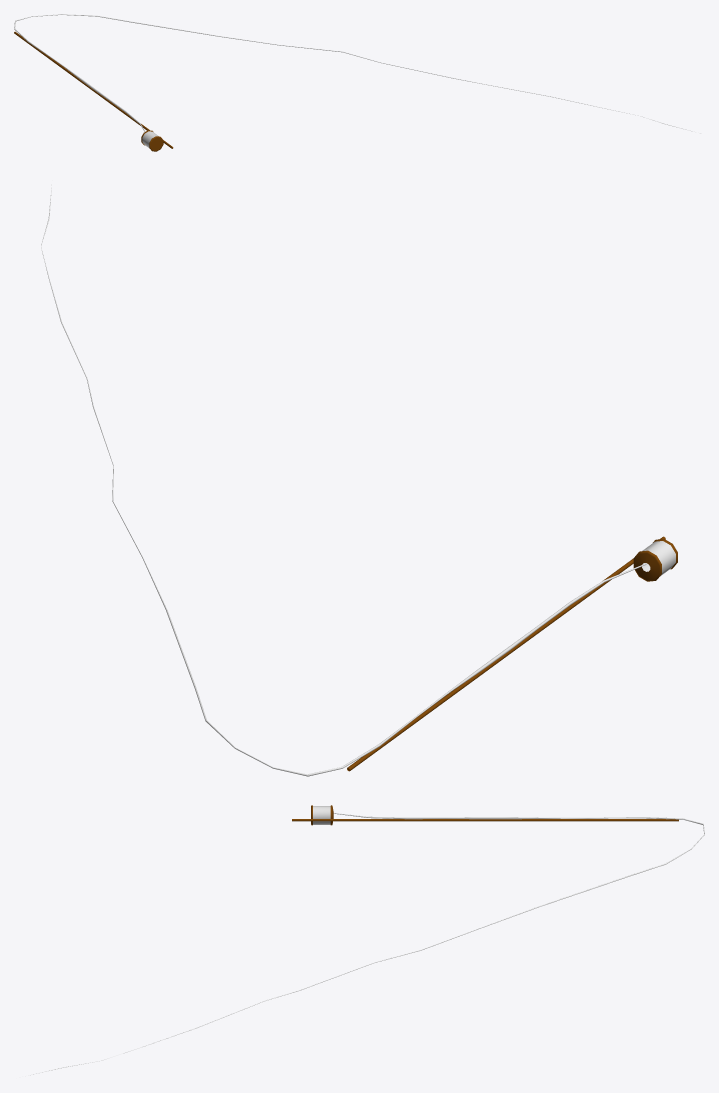
The model's file is cannePeche.fbx.
3 views of the same model, one above another, from view 1: azimuth 30°, elevation 25°; view 2: azimuth 150°, elevation 25°; view 3: azimuth 270°, elevation 25° (orthographic). The views are drawn at different scales.
Visible parts, largest first — view 1: ligne, cannePeche, poignee; view 2: ligne, cannePeche, poignee; view 3: ligne, cannePeche.
Part boxes in pixels (bbox=[...]): ligne: bbox=[14, 14, 691, 131]; cannePeche: bbox=[14, 31, 173, 148]; poignee: bbox=[141, 130, 163, 151]; ligne: bbox=[41, 184, 646, 776]; cannePeche: bbox=[347, 536, 665, 771]; poignee: bbox=[633, 539, 677, 581]; ligne: bbox=[25, 813, 704, 1076]; cannePeche: bbox=[292, 819, 678, 821].
Size of the model in its own units: 22.87 by 0.7659 by 25.69.
